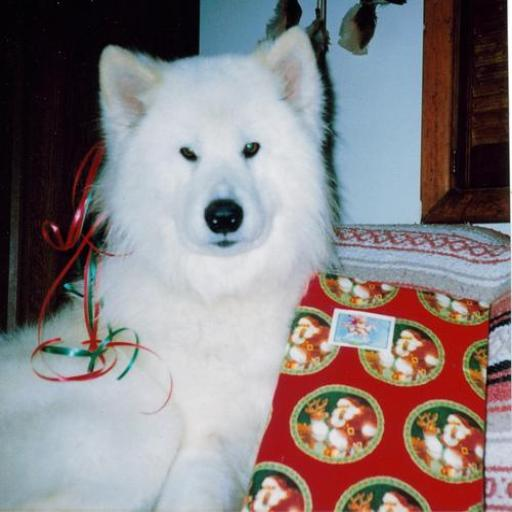dog_face: (102, 35, 323, 264)
